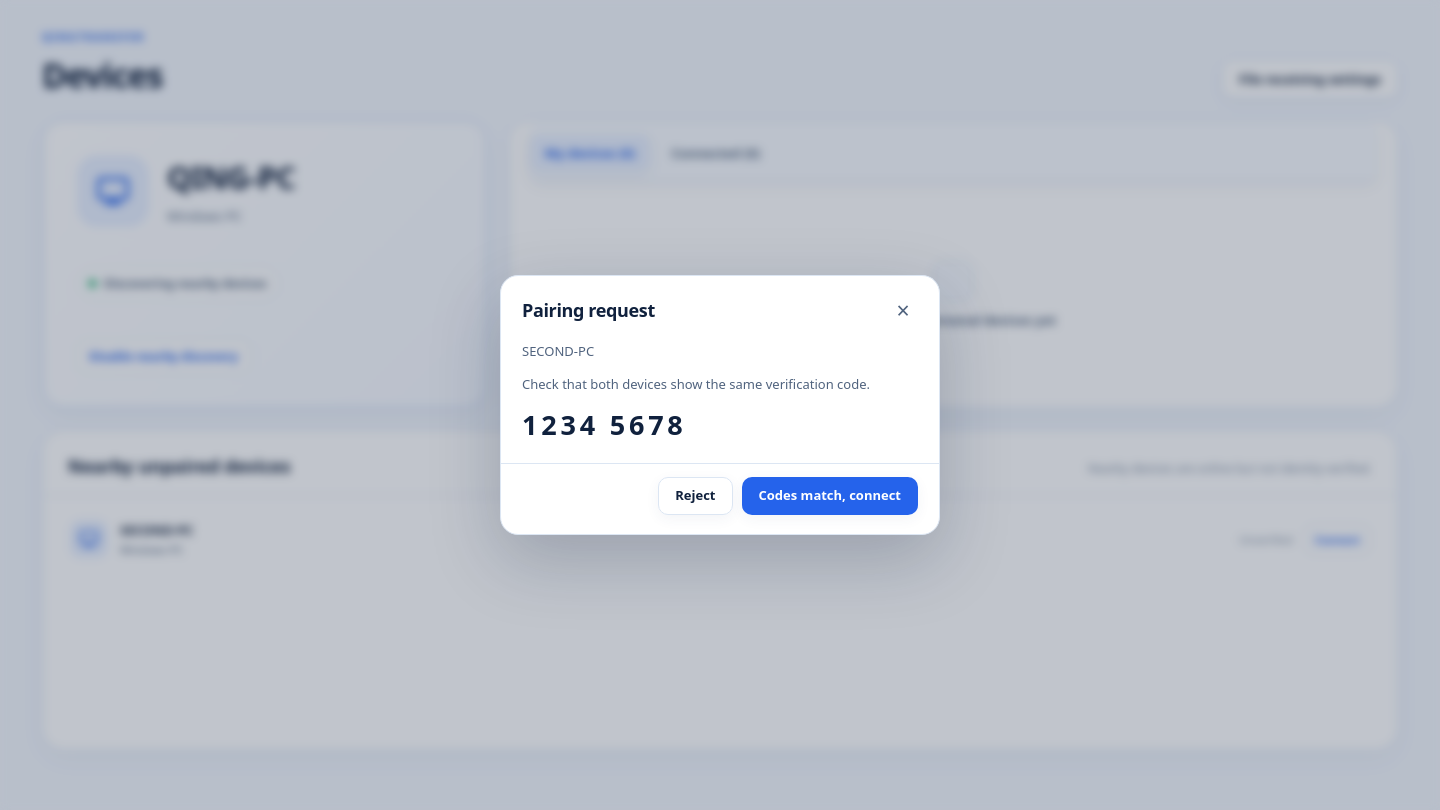
Scenario: DevicesPage › requires an explicit code confirmation and keeps newly paired devices in Connected
The image size is (1440, 810).
Expected: the text with class "devices-pair-code" reads "1234 5678", [522,406,687,443]
Expected: the dialog shows "Check that both devices show the same verification code.", [522,374,870,392]
Click the button with class "is-primary" at (830, 496), box [742,477,918,515]
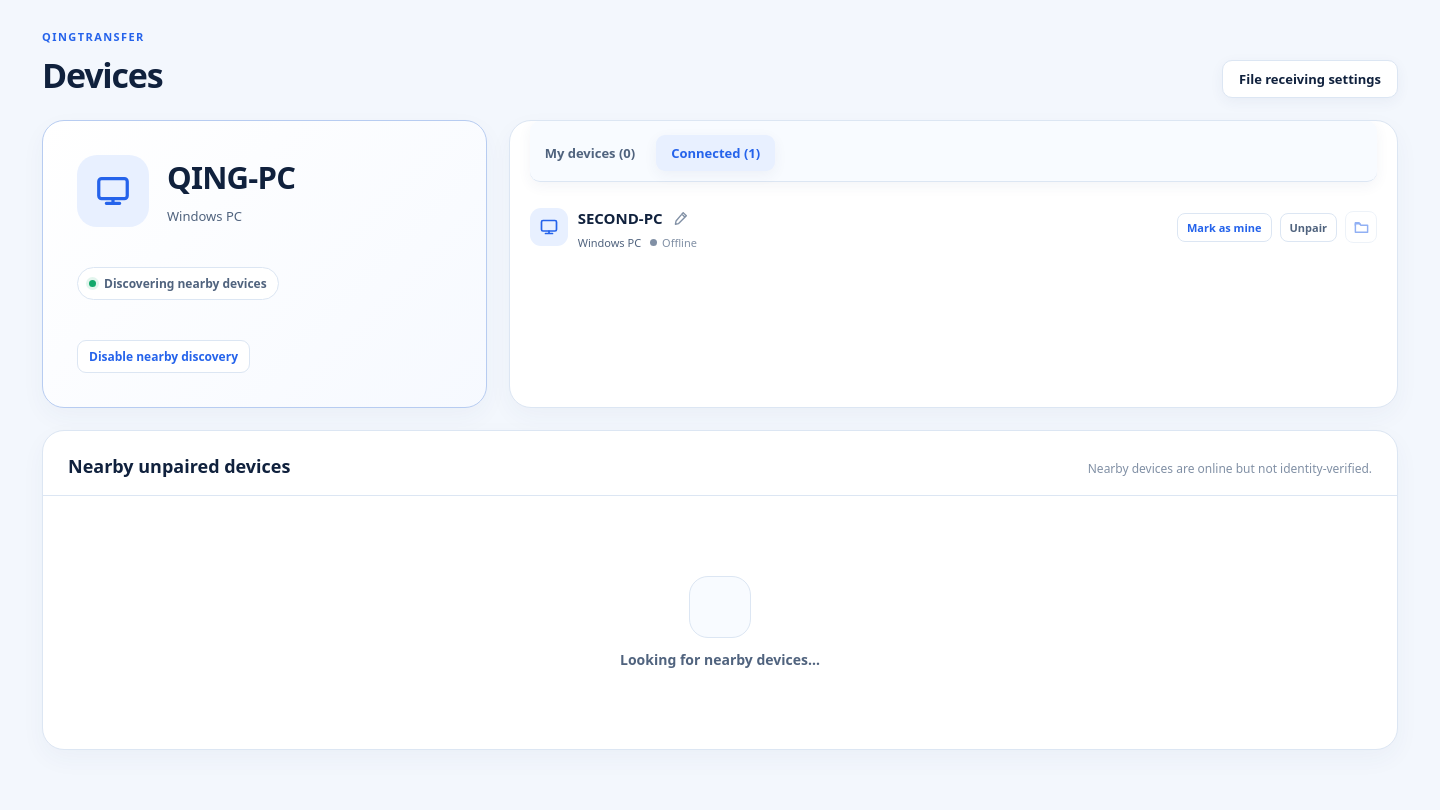
Expected: the element with class "devices-paired-item" shows "SECOND-PC", [578,208,663,228]
